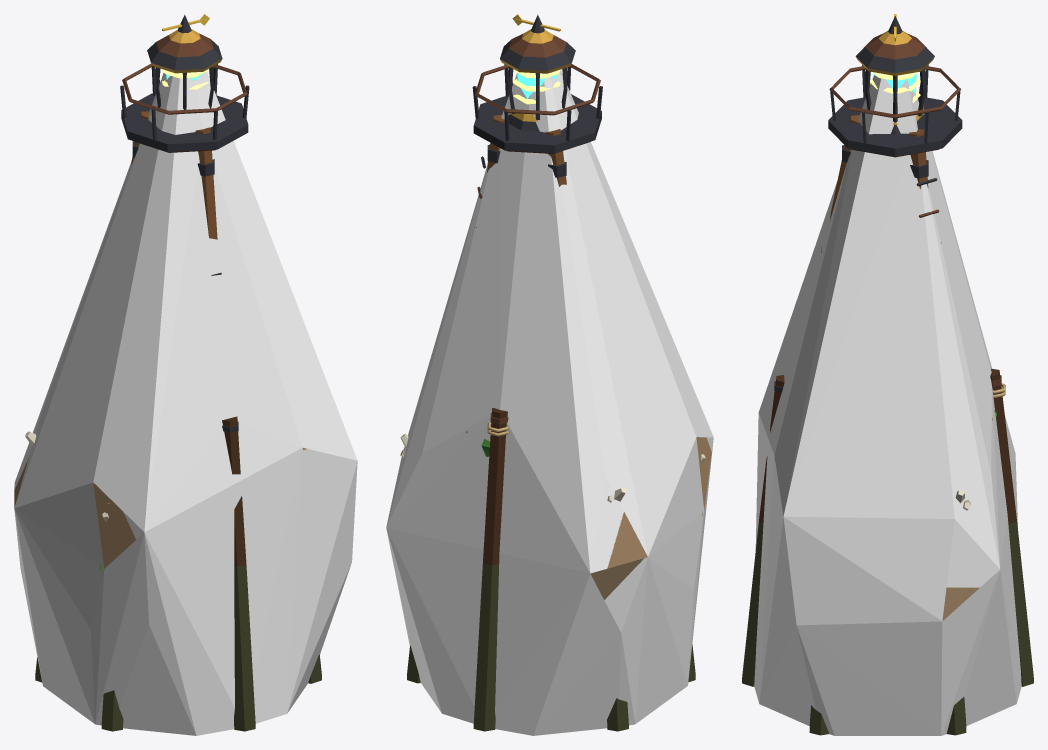
Rendered from shipwreck_bell_buoy_beacon.glb.
3 views of the same model, side by side, from view 1: azimuth 30°, elevation 25°; view 2: azimuth 150°, elevation 25°; view 3: azimuth 270°, elevation 25° (orthographic).
Visible parts, largest first — view 1: col_buoy_base, ShipwreckBellBuoyBeacon; view 2: col_buoy_base, ShipwreckBellBuoyBeacon; view 3: col_buoy_base, ShipwreckBellBuoyBeacon.
Part boxes in pixels (x1,y1,x2,y2): col_buoy_base: (14, 71, 357, 735); ShipwreckBellBuoyBeacon: (14, 14, 321, 731); col_buoy_base: (386, 70, 713, 735); ShipwreckBellBuoyBeacon: (400, 14, 711, 731); col_buoy_base: (754, 75, 1021, 735); ShipwreckBellBuoyBeacon: (742, 14, 1033, 735).
Size of the model in its own units: 5.81 by 14.16 by 5.57.
